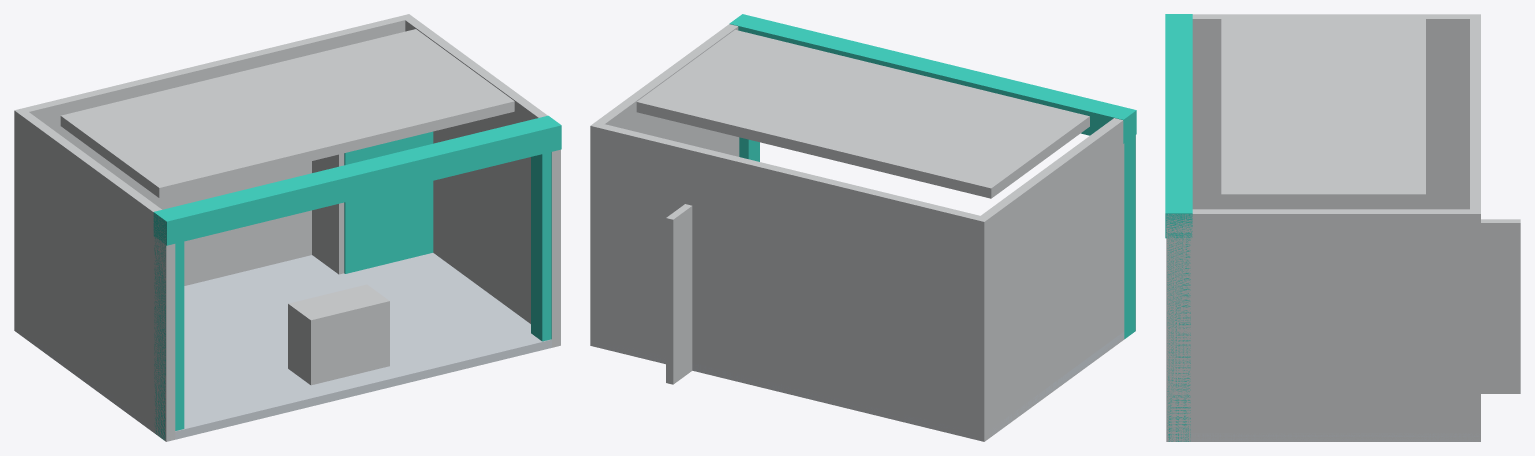
3 renders of one model, left to right at view 1: azimuth 30°, elevation 25°; view 2: azimuth 150°, elevation 25°; view 3: azimuth 270°, elevation 25°, orthographic. The views are drawn at different scales.
Visible parts, largest first — view 1: Exhibition Booth Concept; view 2: Exhibition Booth Concept; view 3: Exhibition Booth Concept.
Part boxes in pixels (x1,y1,x2,y2): Exhibition Booth Concept: (14,14,561,441); Exhibition Booth Concept: (590,14,1136,441); Exhibition Booth Concept: (1165,14,1520,441).
Bounding box in the file's own units: 6 × 3.34 × 4.52.
